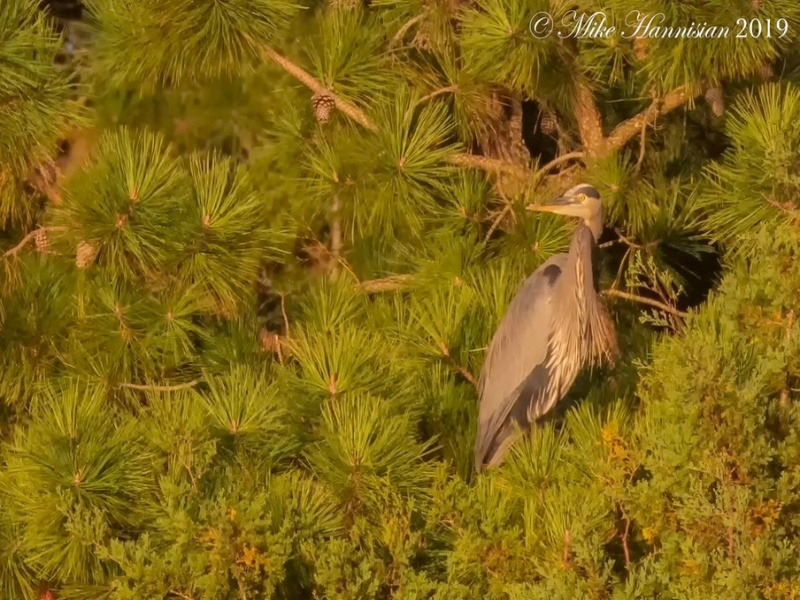heron: (473, 180, 623, 478)
